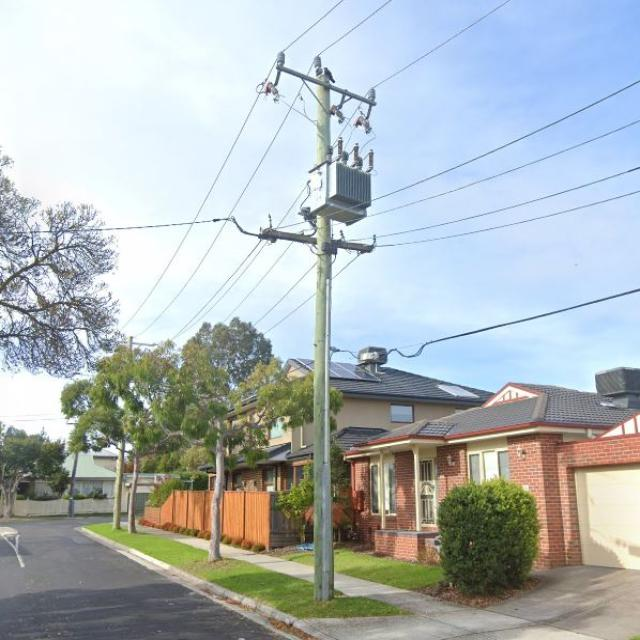HV-transmission: (260, 50, 380, 133)
crossarm: (276, 52, 378, 106), (260, 231, 372, 253)
timber-pole: (313, 68, 333, 601)
transformer: (303, 138, 375, 223)
